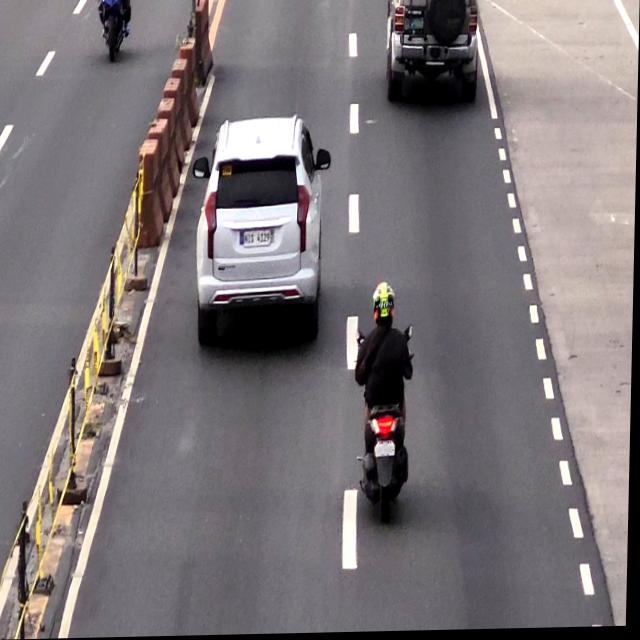Car: (199, 120, 319, 344), (387, 0, 488, 100)
License-Plate: (243, 229, 273, 247), (377, 441, 398, 461)
